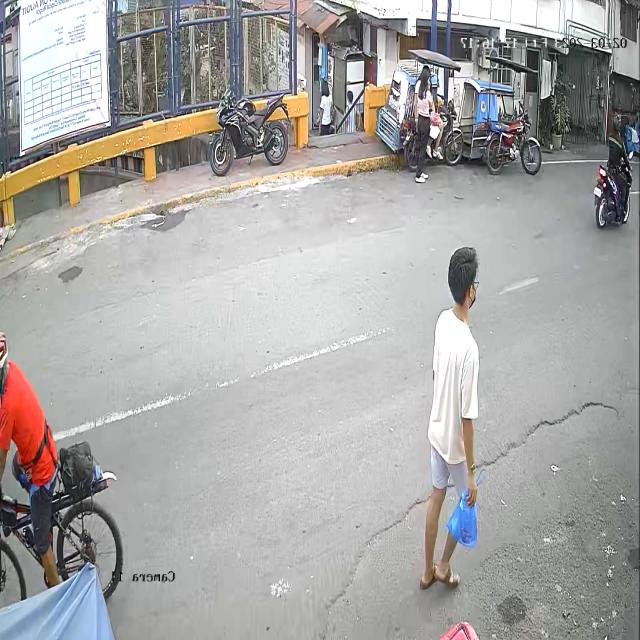human: (421, 248, 478, 589)
trash: (447, 471, 478, 552)
